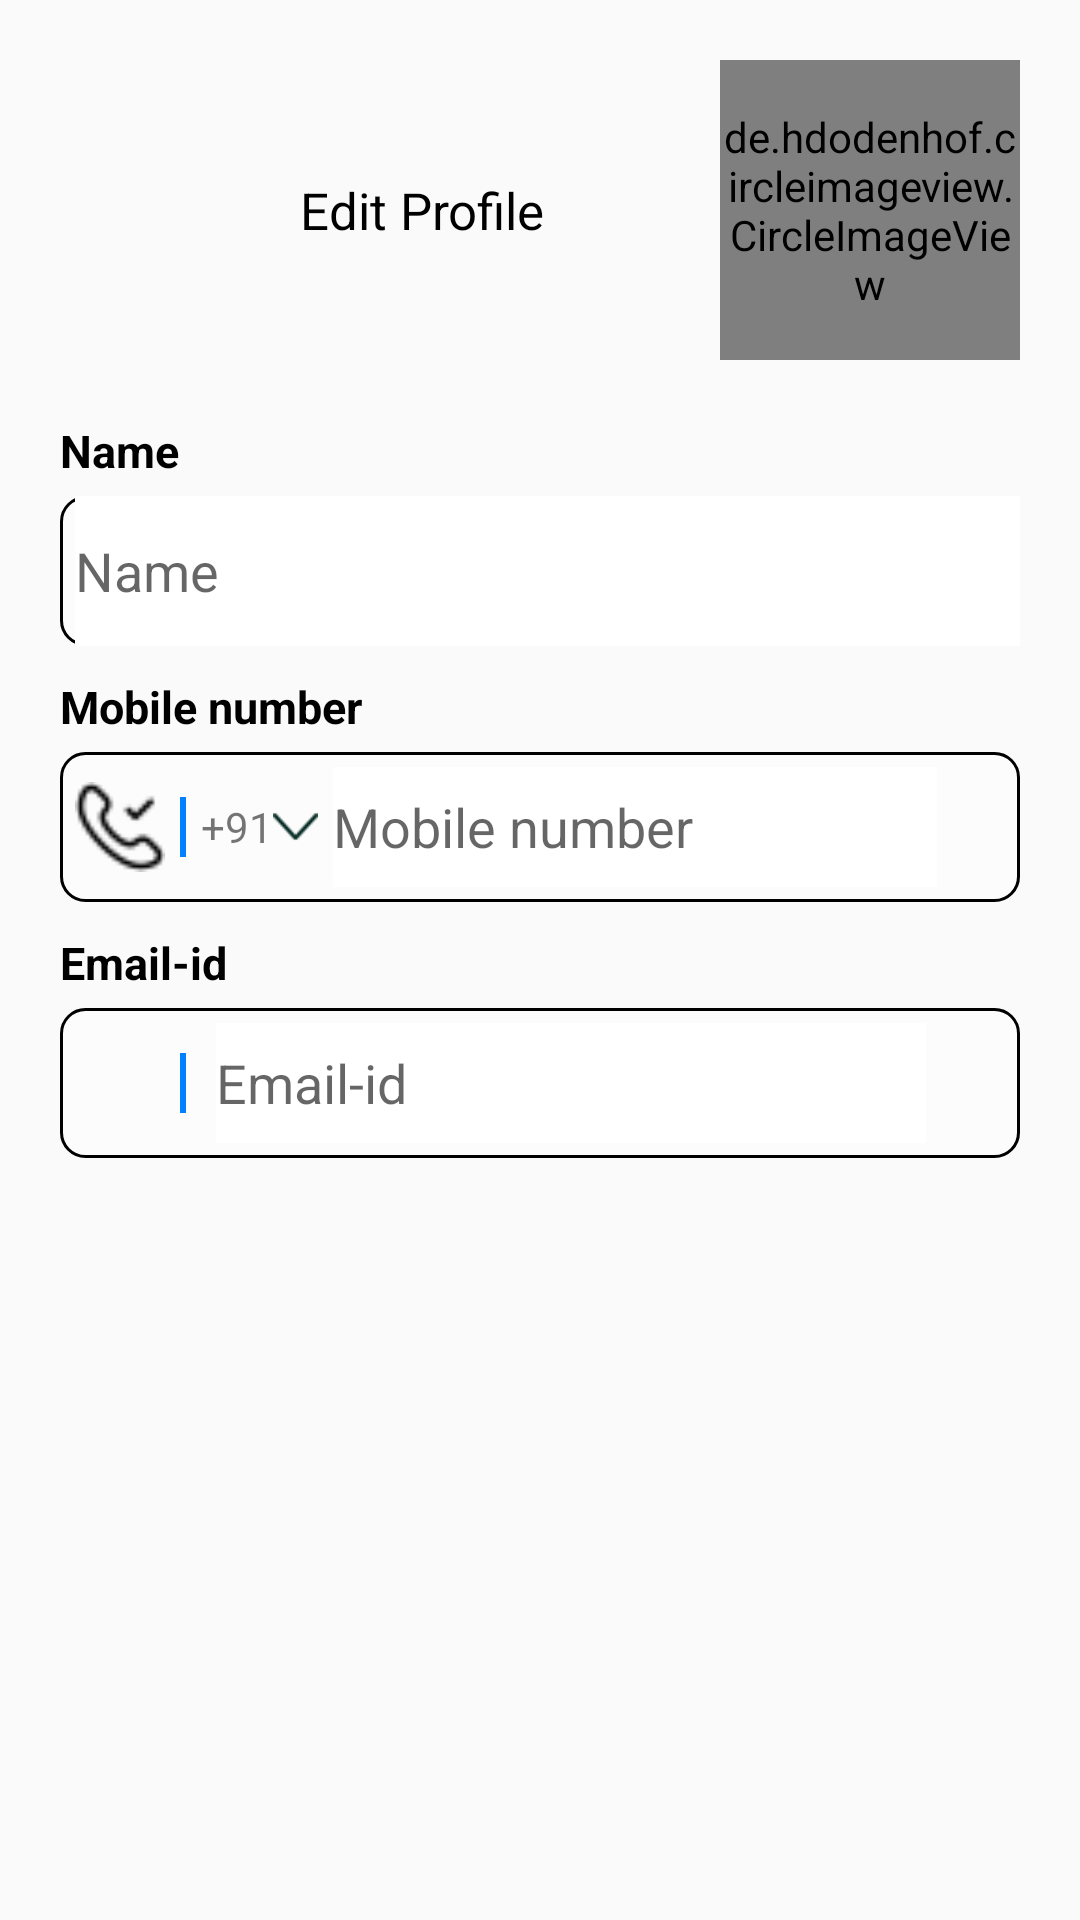

Named icons in this screenshot (1080×1920) and their centers, (x,y):
call: (120,827)
down arrow: (295,826)
